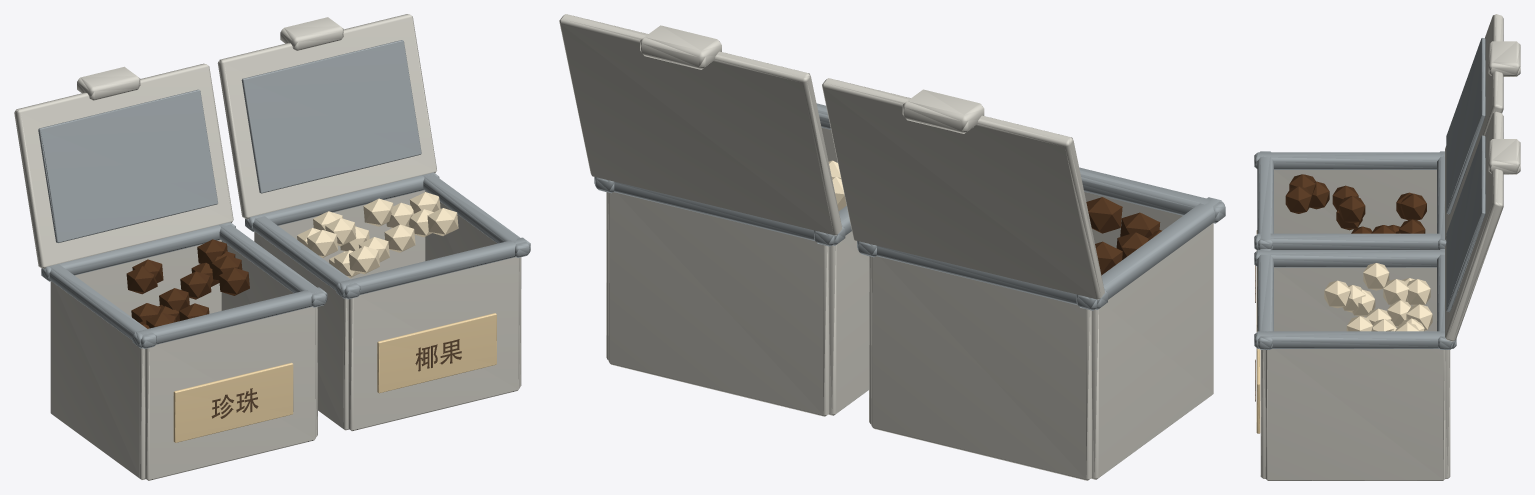
Rendered from ingredient_bins.fbx.
3 views of the same model, side by side, from view 1: azimuth 30°, elevation 25°; view 2: azimuth 150°, elevation 25°; view 3: azimuth 270°, elevation 25° (orthographic). The views are drawn at different scales.
Visible parts, largest first — view 1: ingredient_bins; view 2: ingredient_bins; view 3: ingredient_bins.
Boxes of the visible parts, x1,y1,x2,y2 form: ingredient_bins: (14,14,530,480); ingredient_bins: (559,14,1225,480); ingredient_bins: (1254,14,1520,480).
Bounding box in the file's own units: 70 × 49.8 × 41.45.
